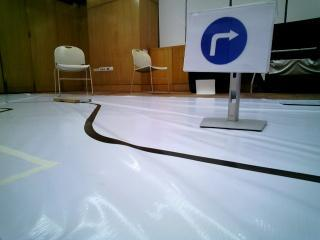right: (187, 14, 271, 69)
